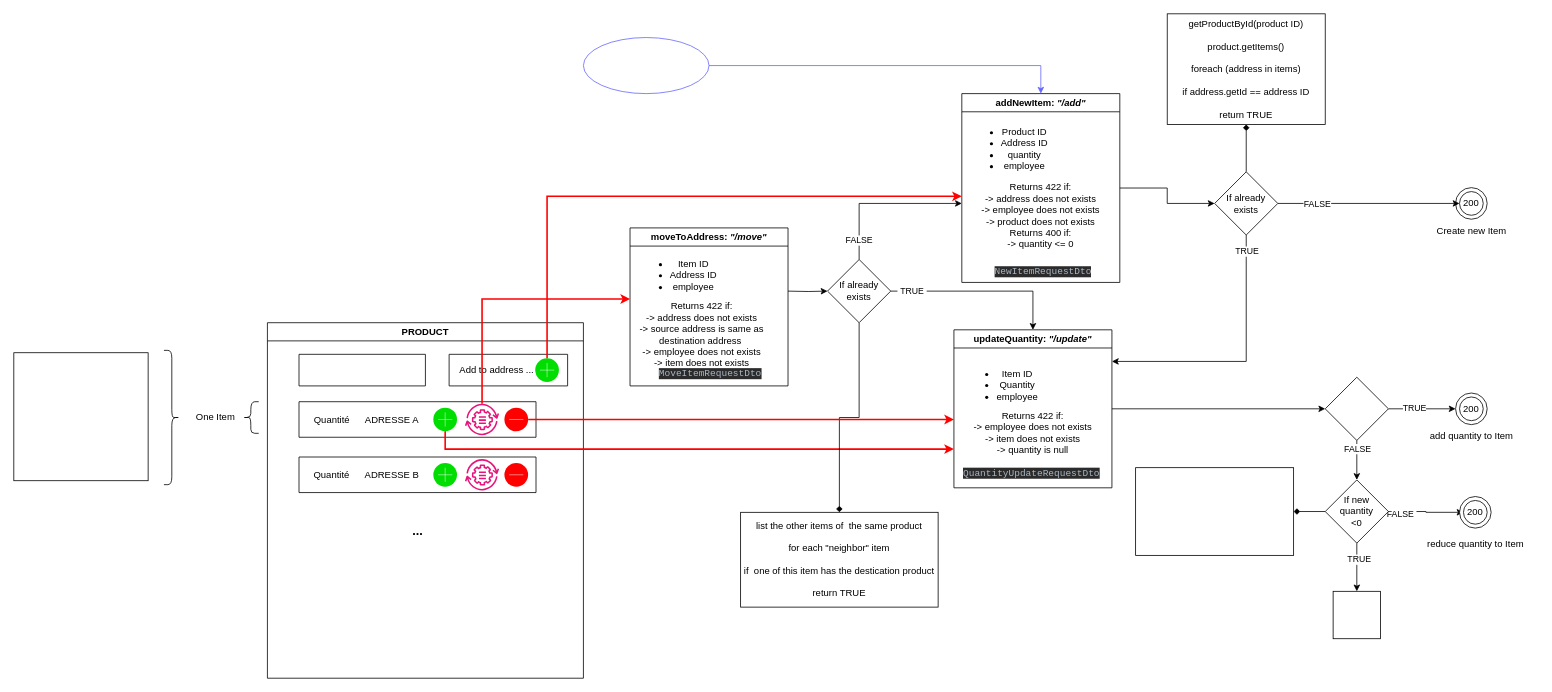
Image size: 1552x692. Some labels were removed from this diagram. The centre of each missing label's shape, as x and y in pixels:
Afficher chaque item si sa quantity est supérieure à 0 Sinon ne pas l'afficher.: point (80, 416)
E400 Bad request: point (1356, 615)
getItemById(ItemID) qty = item.getIQuantity() if qty + quantity < 0 return TRUE: point (1214, 511)
If added quantity >0: point (1356, 408)
Service de commande : Nouvelle commande: point (646, 65)
TOTAL: point (361, 370)
